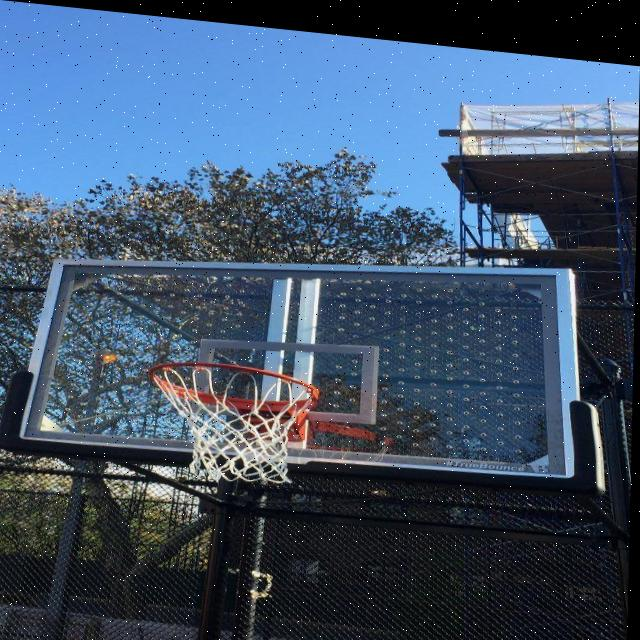hoop: (125, 364, 379, 498)
